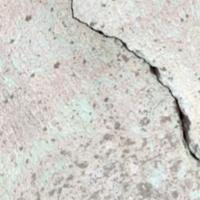crack: (68, 0, 199, 172)
